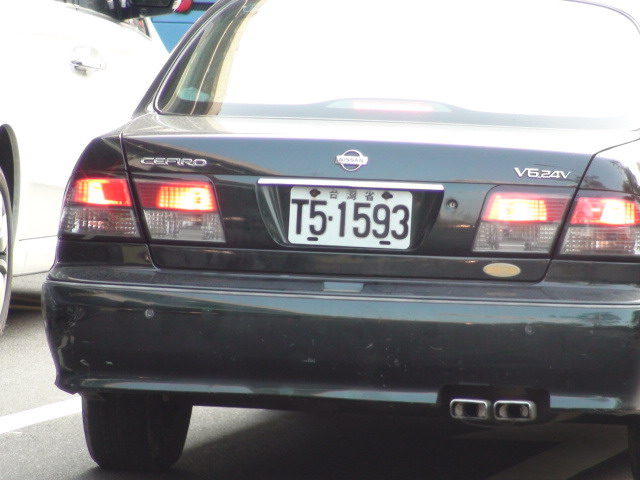plate: (286, 181, 414, 256)
